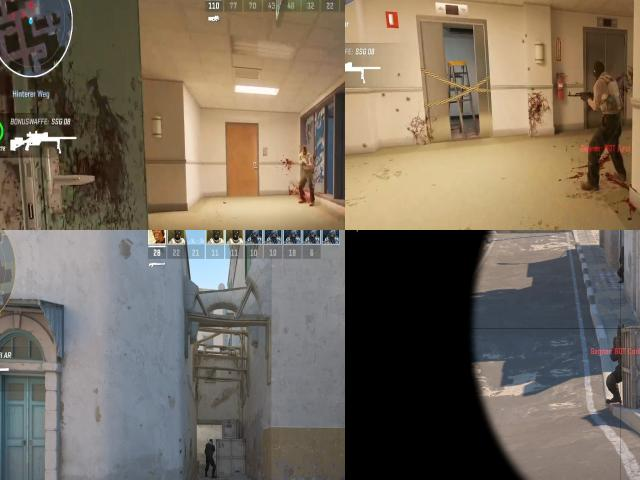CT: (612, 326, 620, 403), (205, 439, 214, 474), (619, 246, 624, 283)
CT-Head: (618, 325, 620, 337), (620, 246, 624, 251), (209, 439, 213, 443)
T: (579, 58, 626, 144), (297, 140, 315, 184)
T-Head: (587, 55, 611, 92), (298, 142, 310, 161)
